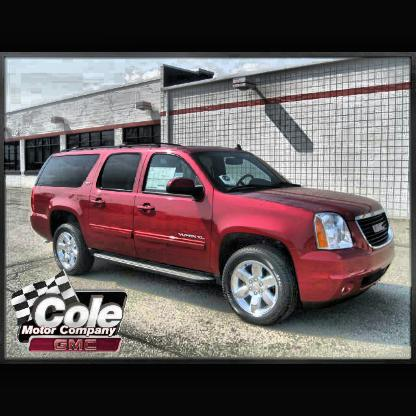GMC Yukon Hybrid SUV 2012: (31, 144, 397, 329)
